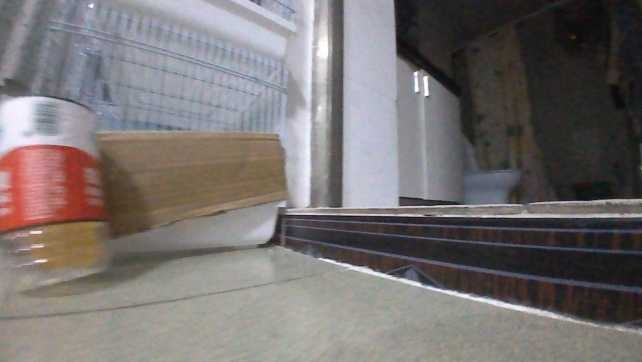bottle: (0, 0, 115, 289)
door_sill: (280, 202, 640, 329)
toilet: (459, 133, 518, 200)
